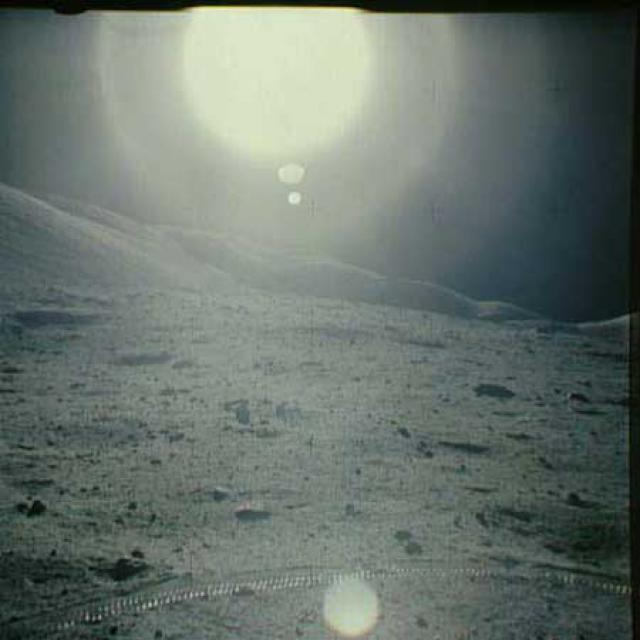crater: (95, 346, 173, 369)
rock: (113, 552, 155, 581), (472, 377, 515, 403), (11, 492, 53, 518), (232, 500, 273, 520), (557, 484, 584, 509), (208, 482, 230, 501), (566, 391, 590, 405)
